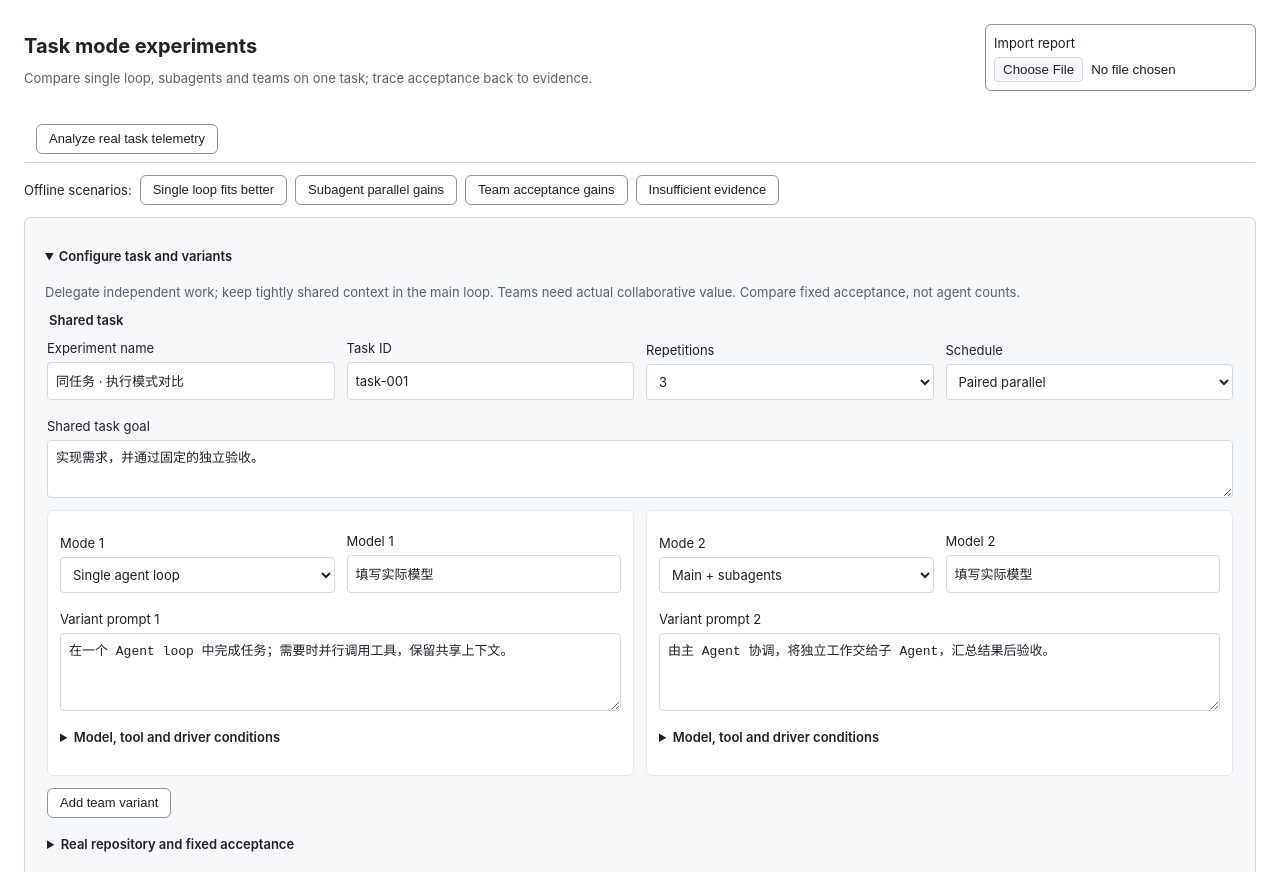
Test: keeps real telemetry analysis separate from illustrative reports and loads only metadata at its explicit entry
Click the button "Subagent parallel gains" at (376, 190), box [295,175,457,205]
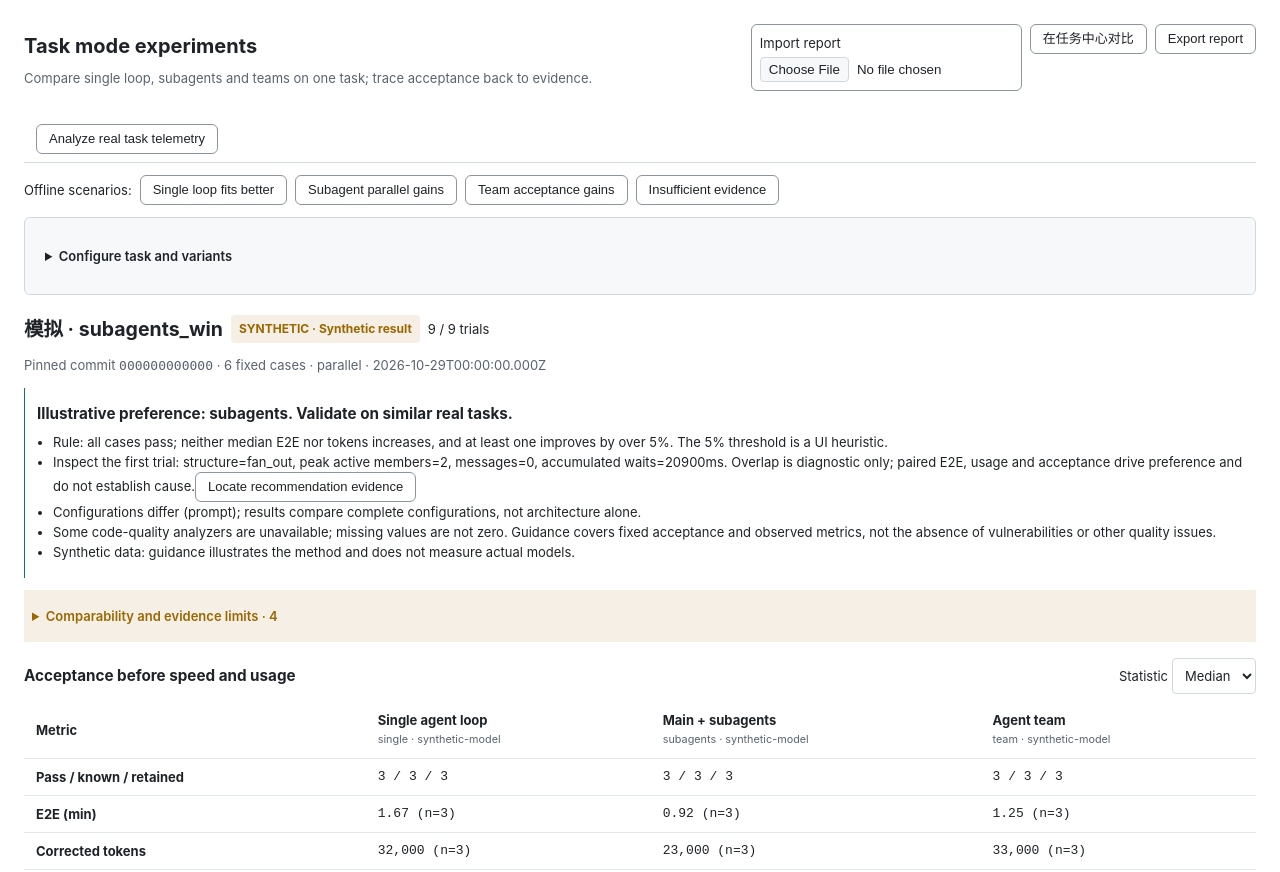
Click the button "Analyze real task telemetry" at (127, 139), box [36,124,218,154]
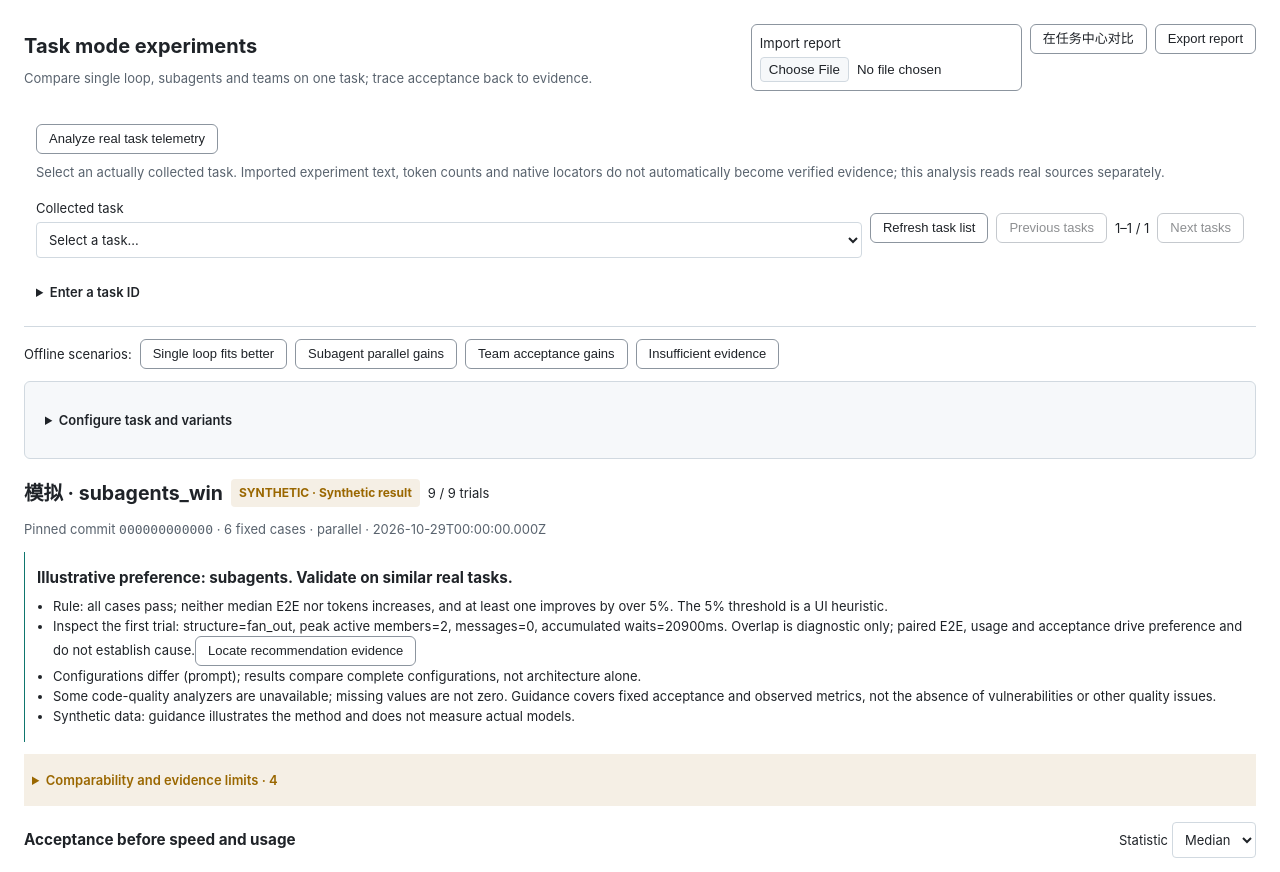
Select "Actual retained task · 3 members" in the dropdown labelled "Collected task" at (449, 240), box [36,222,862,258]
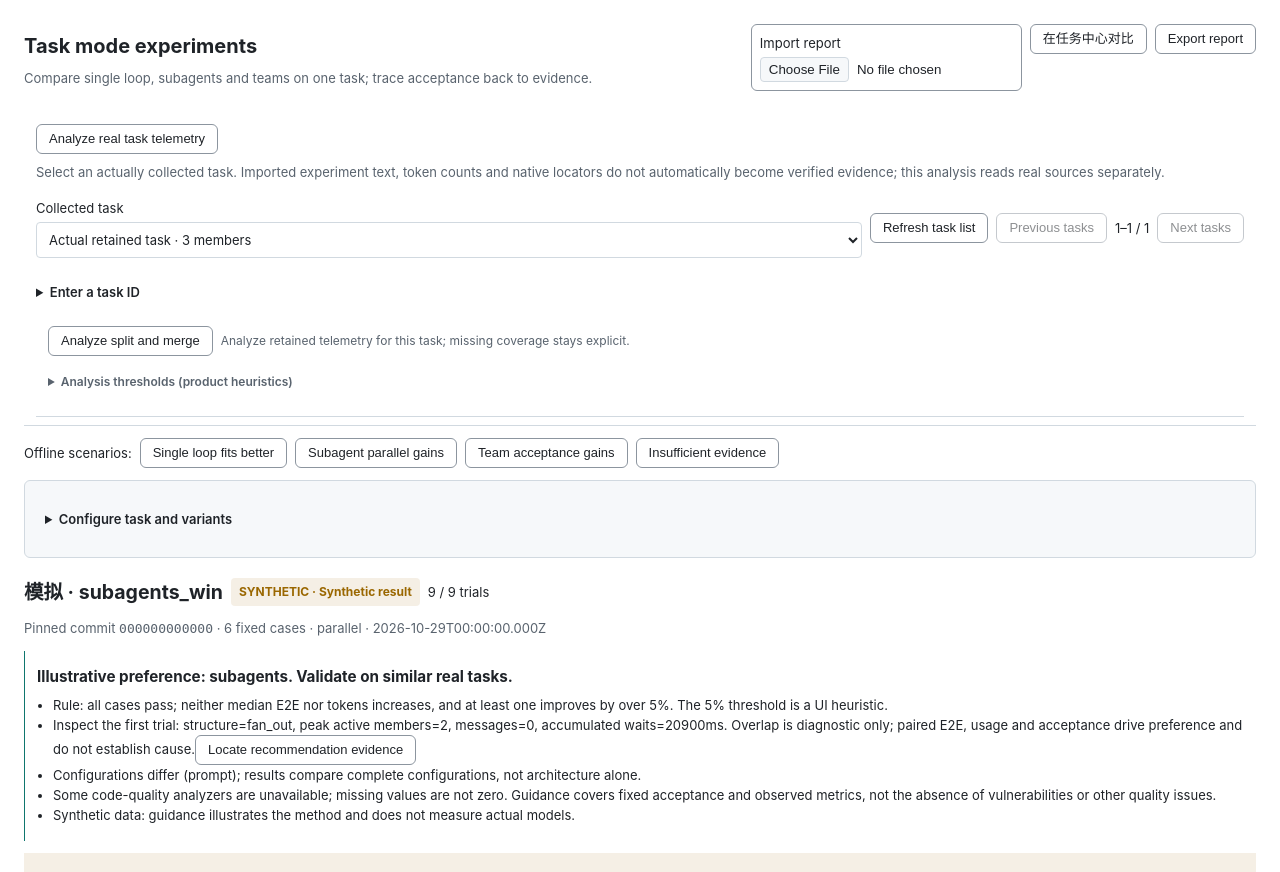
Expected: the text "SYNTHETIC" is shown, [239,584,412,599]
Now the text "do not automatically become verified evidence" is shown, box [36,164,1165,180]
Now the button "Analyze split and merge" is shown, box [48,326,213,356]
